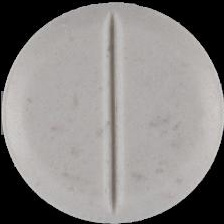60793-116: (0, 0, 224, 224)
